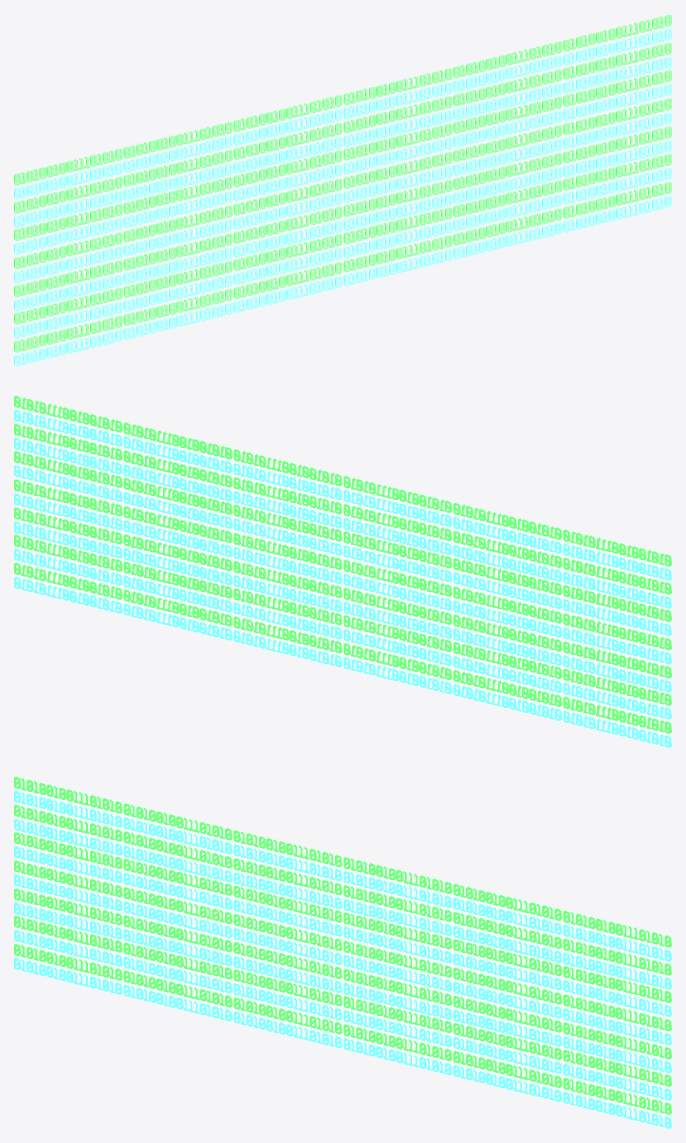
Rendered from boundary_wall.fbx.
3 views of the same model, one above another, from view 1: azimuth 30°, elevation 25°; view 2: azimuth 150°, elevation 25°; view 3: azimuth 330°, elevation 25° (orthographic).
Parts seen in each view (by area): view 1: Boundary_wall; view 2: Boundary_wall; view 3: Boundary_wall.
Part boxes in pixels (x1,y1,x2,y2): Boundary_wall: [14, 14, 671, 366]; Boundary_wall: [14, 395, 671, 747]; Boundary_wall: [14, 776, 671, 1128].
Size of the model in its own units: 4552 by 1274 by 12.
